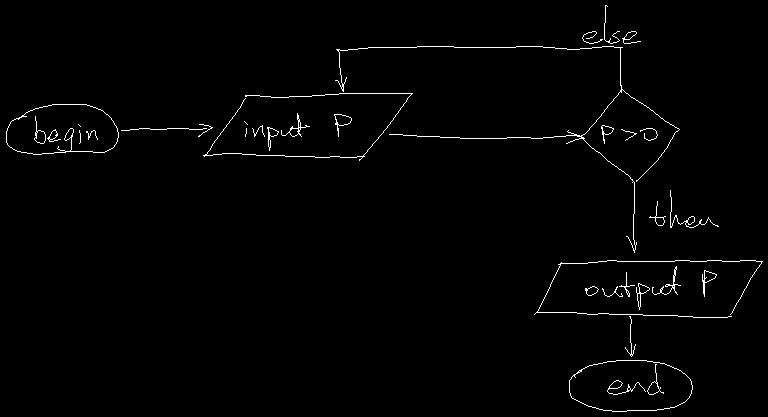arrow: (335, 46, 622, 92), (389, 130, 584, 143), (121, 124, 212, 136), (626, 181, 636, 252), (625, 316, 635, 356)
data: (203, 93, 412, 160), (534, 260, 762, 317)
decision: (580, 88, 679, 181)
terminator: (569, 360, 692, 411), (6, 104, 118, 154)
text: (585, 266, 716, 309), (244, 113, 351, 150), (649, 190, 718, 227), (34, 116, 97, 151), (582, 5, 640, 43), (607, 364, 663, 394), (601, 125, 657, 143)
